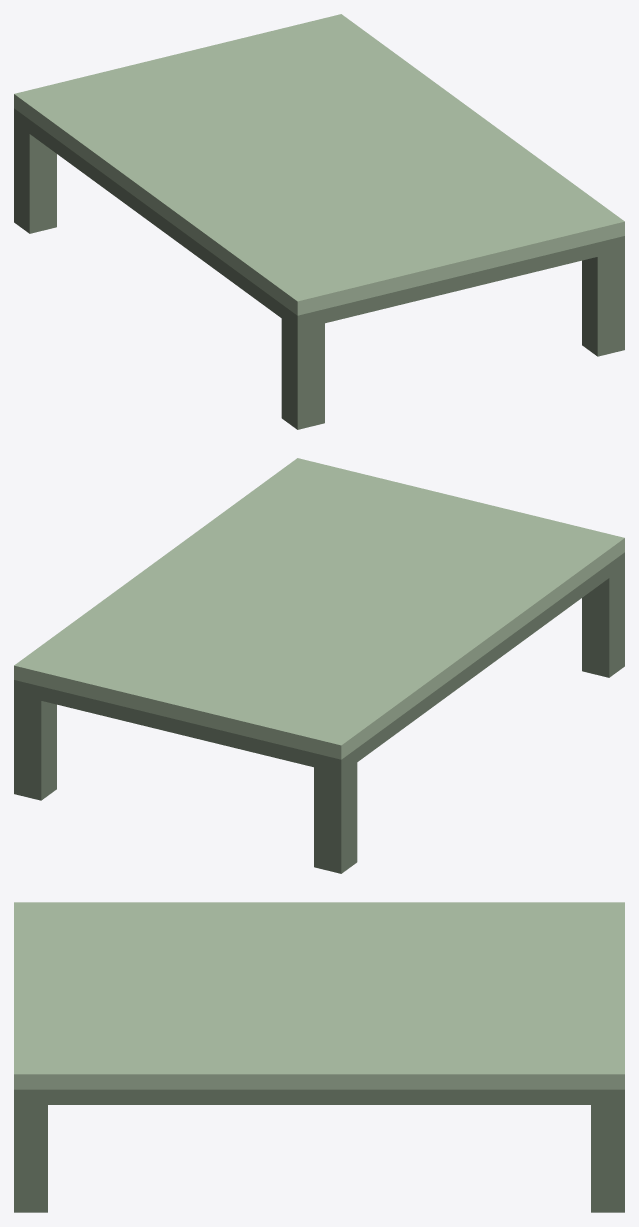
Rendered from mesa_gestion_parcelas_01.glb.
3 renders of one model, top to bottom at view 1: azimuth 30°, elevation 25°; view 2: azimuth 150°, elevation 25°; view 3: azimuth 270°, elevation 25°, orthographic. The views are drawn at different scales.
Parts seen in each view (by area): view 1: mesa_gestion_parcelas; view 2: mesa_gestion_parcelas; view 3: mesa_gestion_parcelas.
Boxes of the visible parts, x1,y1,x2,y2 form: mesa_gestion_parcelas: (14, 14, 624, 429); mesa_gestion_parcelas: (14, 458, 624, 873); mesa_gestion_parcelas: (14, 902, 624, 1212).
Bounding box in the file's own units: 2 × 0.75 × 3.
